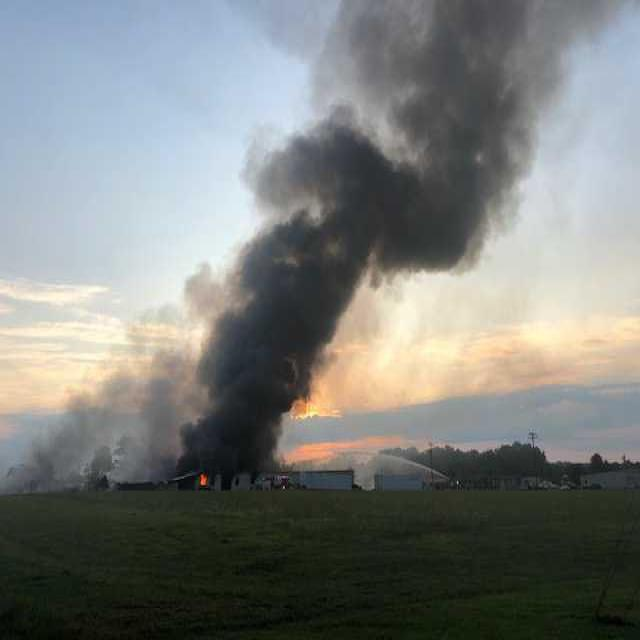Fire: (196, 470, 205, 482)
Smoke: (214, 0, 378, 468), (381, 0, 618, 300), (3, 262, 211, 486), (380, 300, 616, 440)
